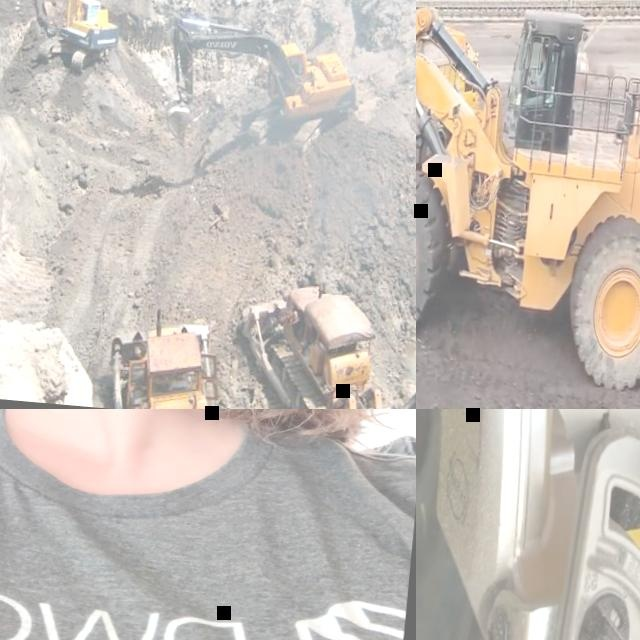NO-Hardhat: (541, 46, 548, 54)
NO-Mask: (538, 57, 544, 63)
NO-Safety Vest: (0, 409, 416, 640), (538, 61, 550, 87)
Person: (0, 409, 416, 640), (523, 43, 551, 98)
machinery: (416, 0, 640, 409), (161, 11, 361, 161), (233, 271, 408, 409), (106, 302, 230, 409), (416, 7, 480, 210), (2, 0, 131, 76)
